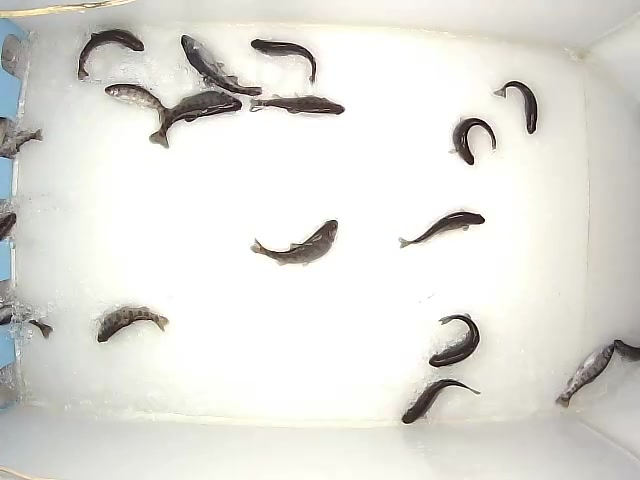fish: (149, 90, 243, 150), (180, 33, 263, 97), (249, 219, 339, 267), (554, 344, 615, 409), (400, 379, 481, 425), (398, 207, 486, 249), (76, 28, 145, 81), (250, 38, 317, 87), (428, 312, 480, 367), (97, 305, 170, 344), (105, 84, 171, 124), (492, 80, 538, 135), (447, 116, 497, 166), (249, 91, 345, 116)
